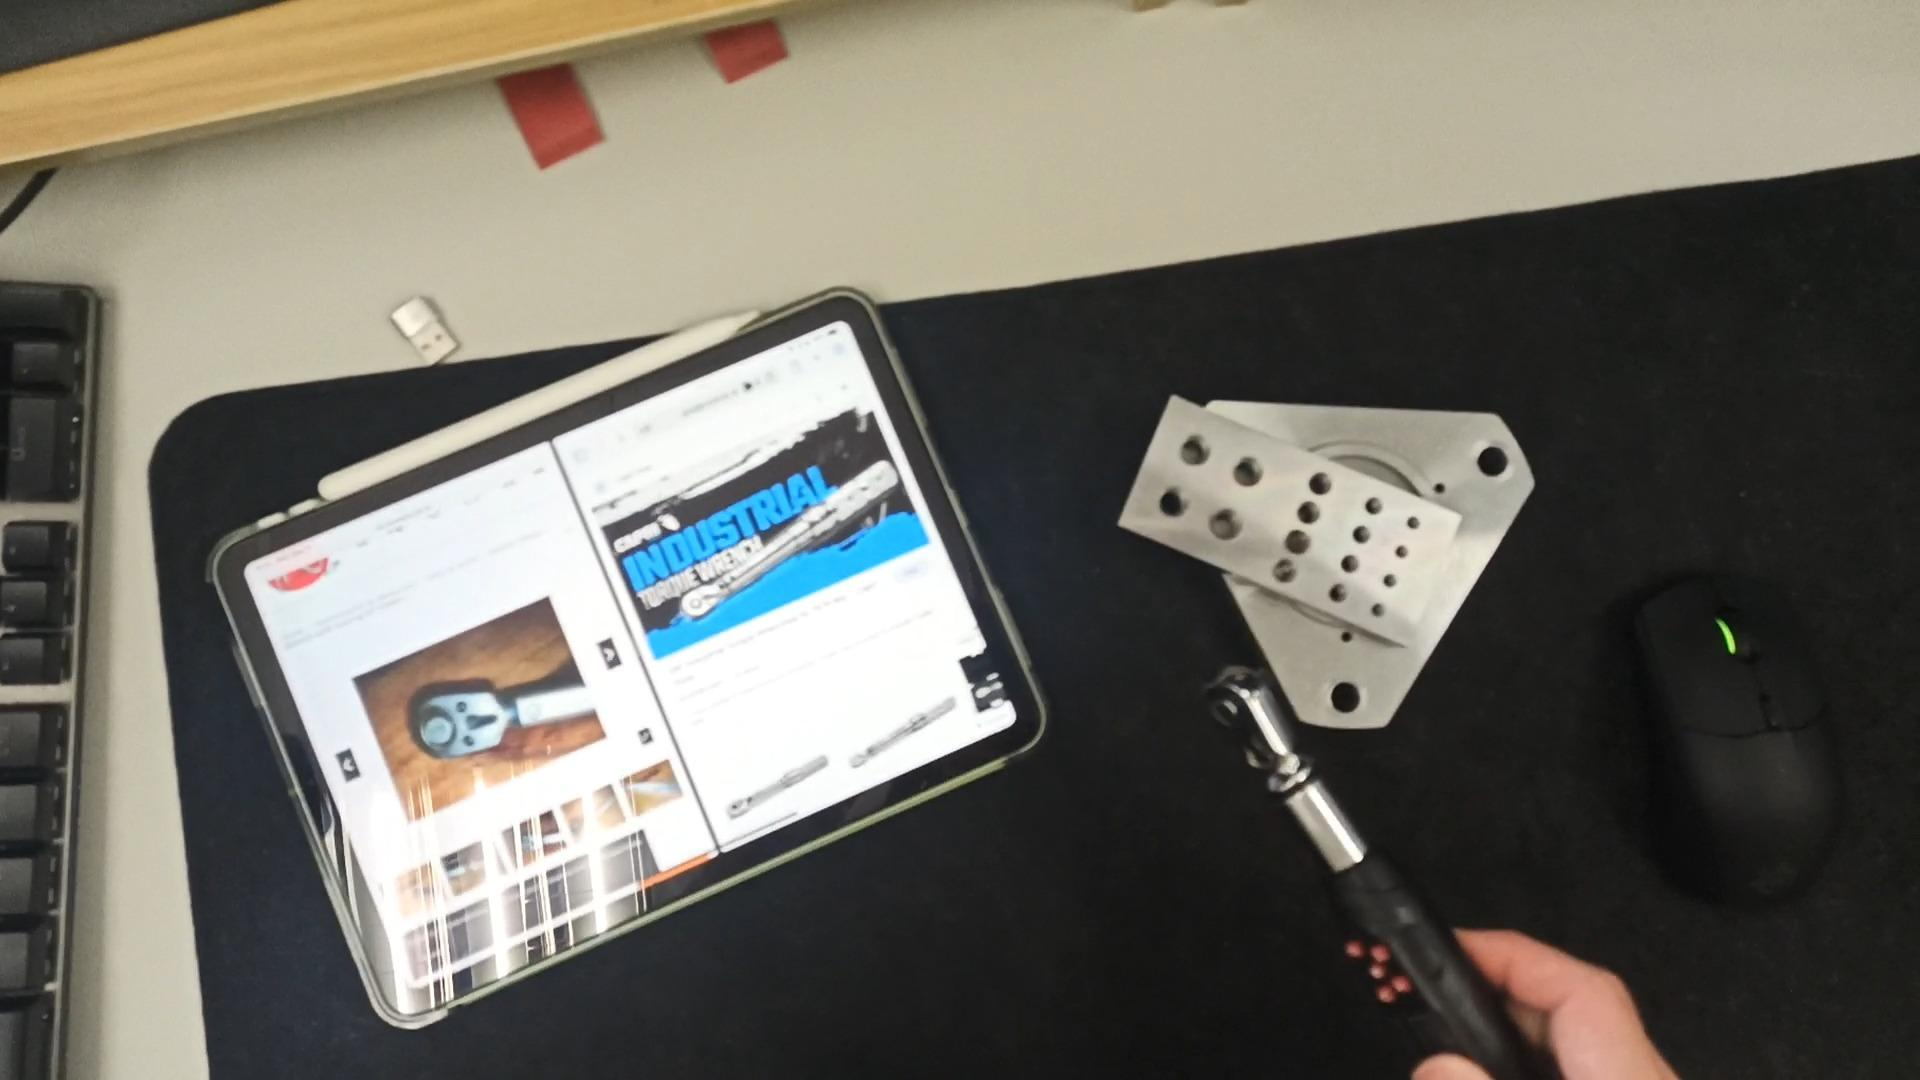Tool: (1199, 667, 1292, 769), (406, 676, 517, 756), (678, 574, 721, 615)
hole: (1309, 670, 1382, 720), (1468, 438, 1519, 480), (1167, 425, 1225, 462), (1147, 481, 1203, 518), (1221, 455, 1274, 491), (1197, 504, 1250, 538), (1273, 525, 1317, 553), (1300, 469, 1342, 497), (1262, 558, 1303, 584), (1290, 500, 1331, 525), (1320, 579, 1356, 603), (1354, 496, 1390, 517), (1332, 551, 1367, 572), (1345, 524, 1379, 545), (1375, 570, 1407, 588), (1400, 512, 1432, 530), (1387, 541, 1419, 558), (1361, 600, 1391, 617)
